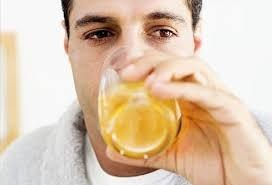Drinking: (62, 0, 244, 170)
